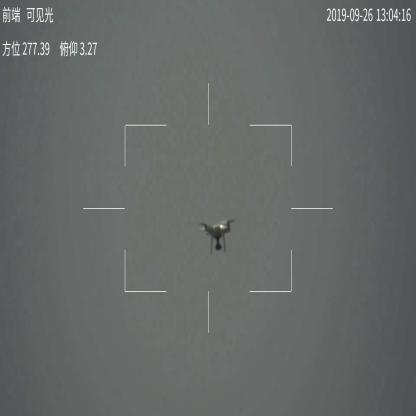uav: (196, 217, 238, 255)
